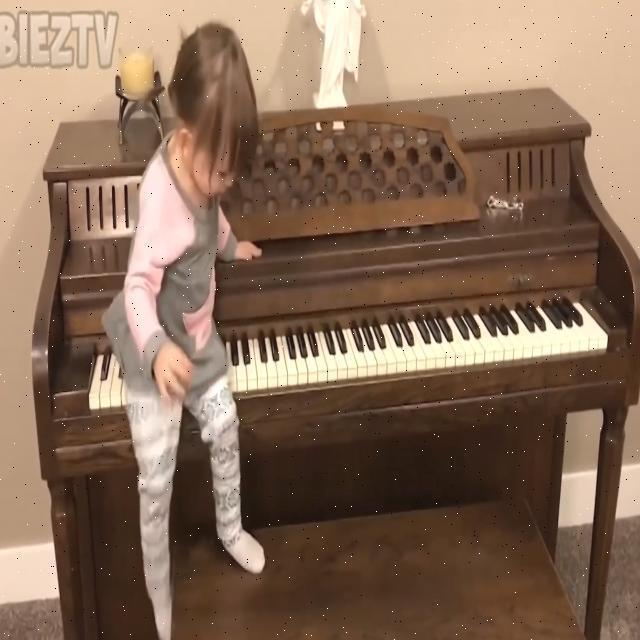child: (107, 22, 260, 640)
